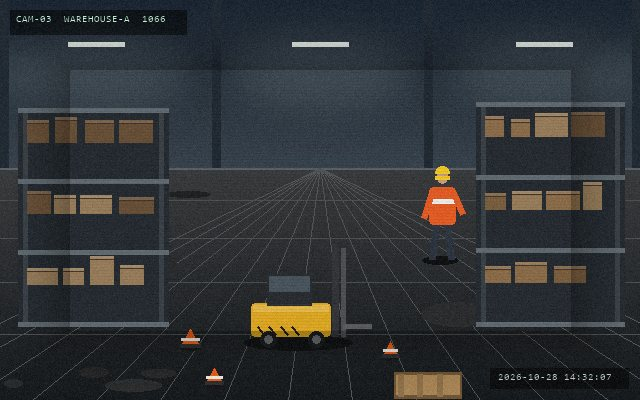cone: (179, 327, 201, 350), (204, 366, 224, 387), (381, 339, 399, 360)
forklift: (247, 246, 372, 350)
pallet: (392, 370, 463, 399)
person: (421, 164, 464, 263)
shelf: (476, 102, 624, 322), (18, 108, 168, 322)
